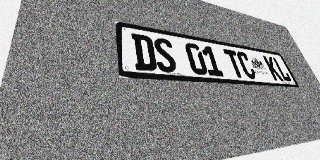0: (184, 42, 209, 75)
1: (200, 45, 224, 77)
C: (235, 51, 258, 79)
D: (131, 33, 158, 72)
K: (262, 56, 284, 81)
L: (272, 57, 292, 82)
S: (152, 37, 178, 73)
T: (223, 49, 246, 78)
